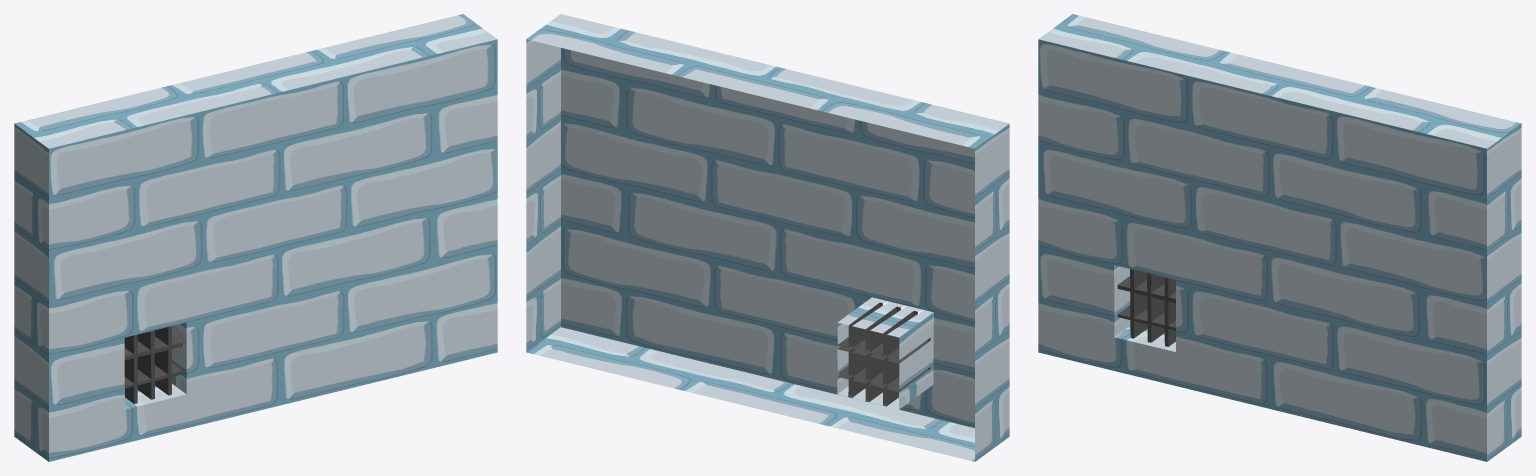
Rendered from MuroConVentana.fbx.
The picture shows the model from 3 angles, left to right: view 1: azimuth 30°, elevation 25°; view 2: azimuth 150°, elevation 25°; view 3: azimuth 330°, elevation 25°; orthographic projection.
Parts seen in each view (by area): view 1: muroLobby003; view 2: muroLobby003; view 3: muroLobby003.
Boxes of the visible parts, bbox=[...] form: muroLobby003: bbox=[14, 14, 497, 461]; muroLobby003: bbox=[526, 14, 1009, 461]; muroLobby003: bbox=[1038, 14, 1521, 461].
Bounding box in the file's own units: 15 × 10 × 2.
